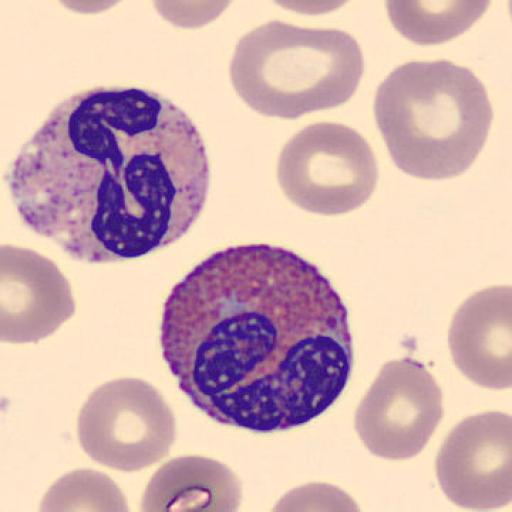RBC: (371, 57, 495, 184), (226, 16, 368, 122), (274, 119, 380, 218), (74, 374, 178, 474), (352, 354, 444, 463), (434, 408, 512, 512), (2, 242, 76, 346), (446, 283, 512, 392), (139, 453, 244, 512), (382, 0, 494, 47), (36, 465, 133, 512), (264, 478, 369, 512), (150, 0, 240, 31), (260, 0, 362, 18), (46, 0, 136, 17)
WBC: (158, 241, 355, 435), (8, 81, 215, 263)
